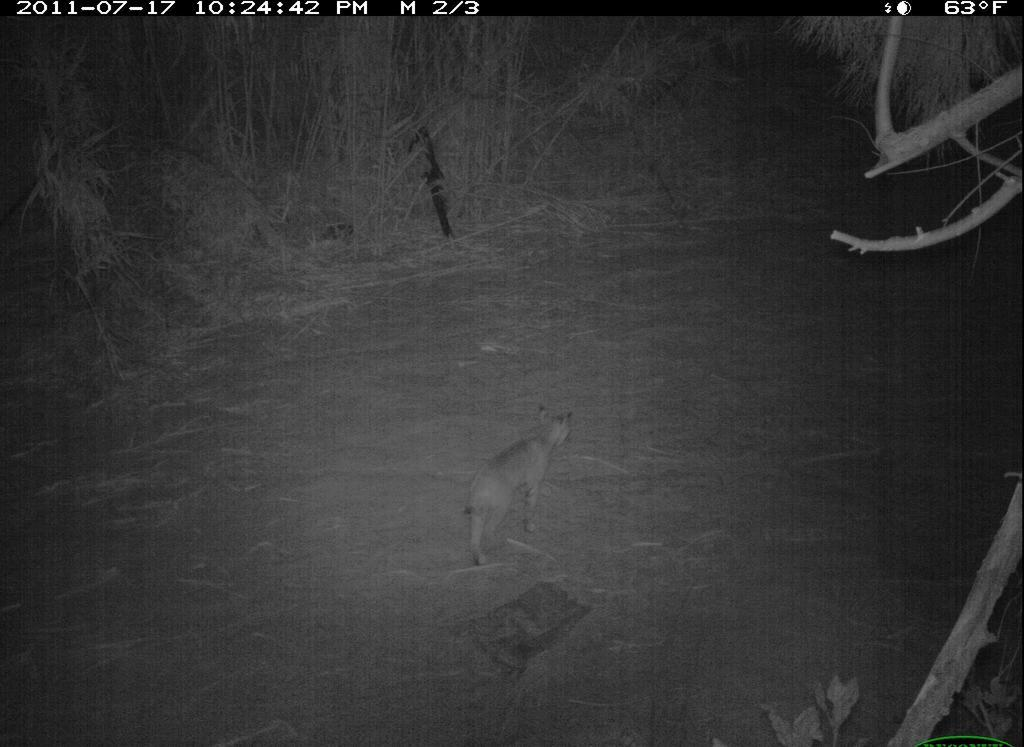bobcat: (430, 398, 585, 583)
